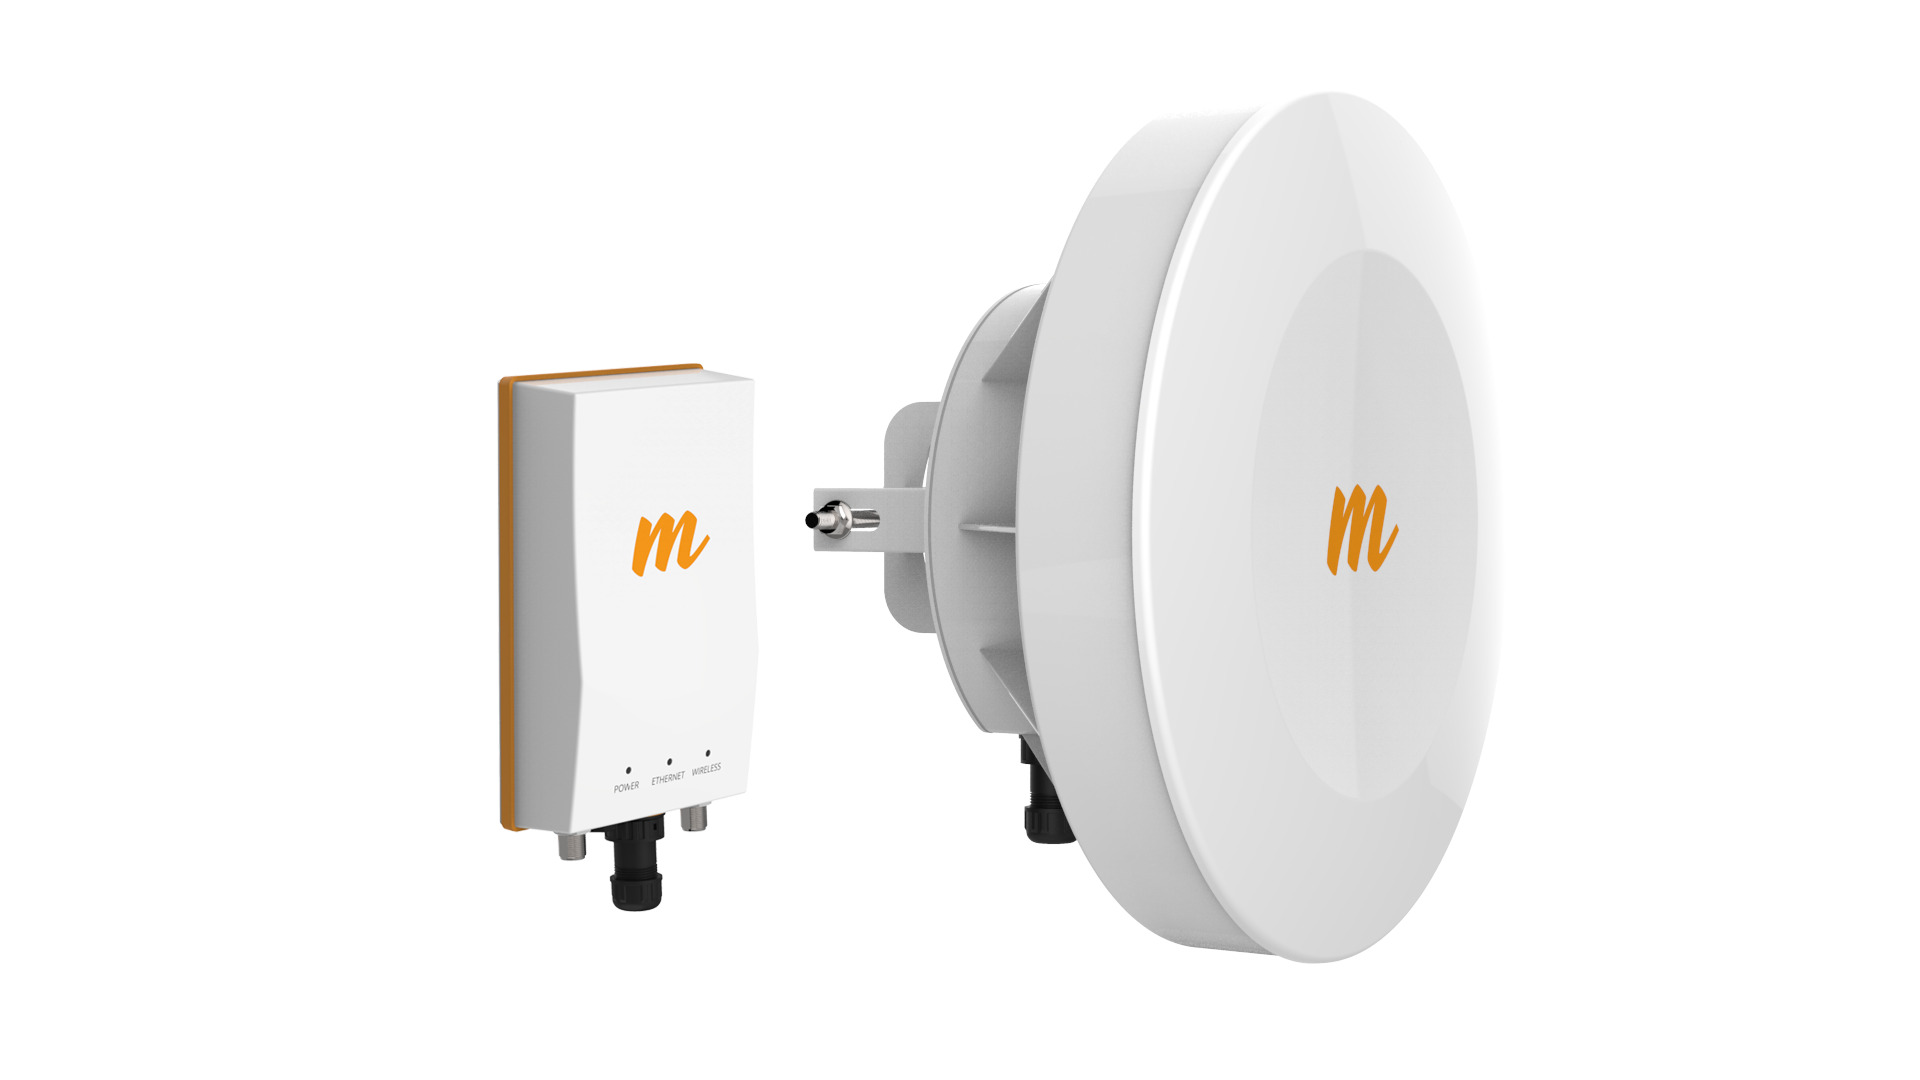ba: (744, 47, 1596, 1007)
